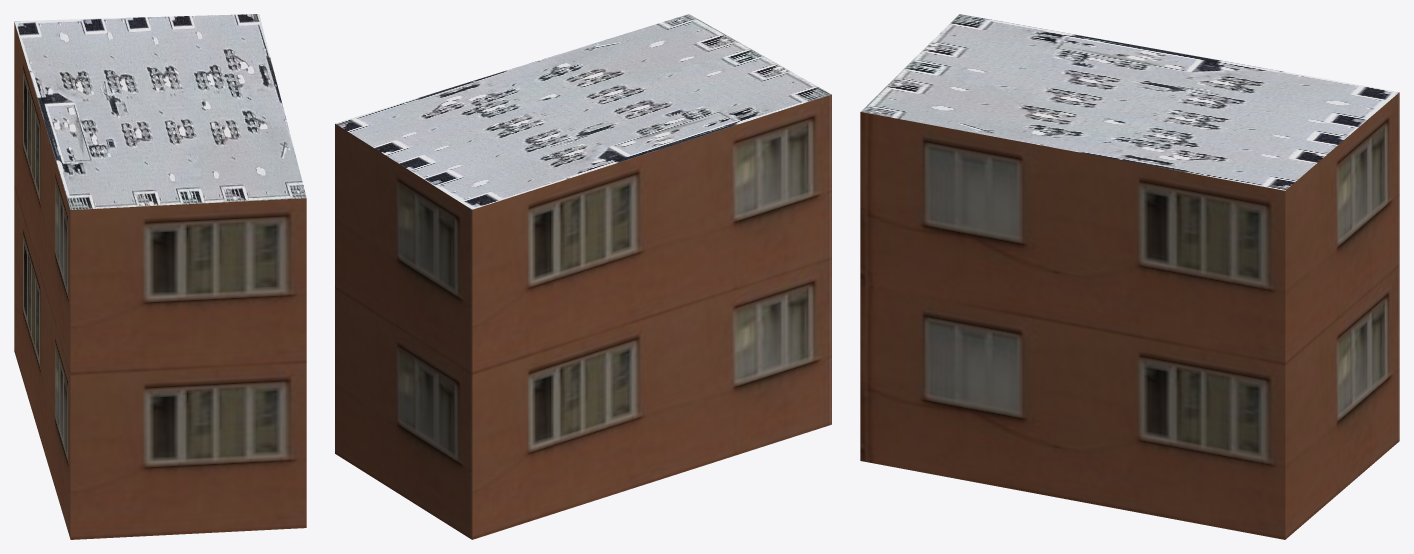
File: ResTex__2240.fbx
3 renders of one model, left to right at view 1: azimuth 30°, elevation 25°; view 2: azimuth 150°, elevation 25°; view 3: azimuth 270°, elevation 25°, orthographic. The views are drawn at different scales.
Parts seen in each view (by area): view 1: CityEngineMaterial_20_m, CityEngineMaterial_4_m; view 2: CityEngineMaterial_20_m, CityEngineMaterial_4_m; view 3: CityEngineMaterial_20_m, CityEngineMaterial_4_m.
Part boxes in pixels (x1=…): CityEngineMaterial_20_m: x1=14, y1=22, x2=306, y2=539; CityEngineMaterial_4_m: x1=14, y1=14, x2=306, y2=209; CityEngineMaterial_20_m: x1=335, y1=94, x2=831, y2=539; CityEngineMaterial_4_m: x1=335, y1=14, x2=831, y2=209; CityEngineMaterial_20_m: x1=860, y1=92, x2=1399, y2=539; CityEngineMaterial_4_m: x1=860, y1=14, x2=1398, y2=190.
Bounding box in the file's own units: 6.52 × 6 × 8.4.
2 materials, 2 textured.
